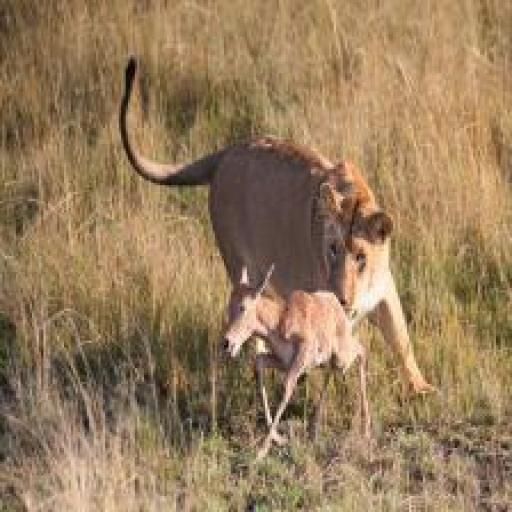lion: (119, 55, 444, 401)
